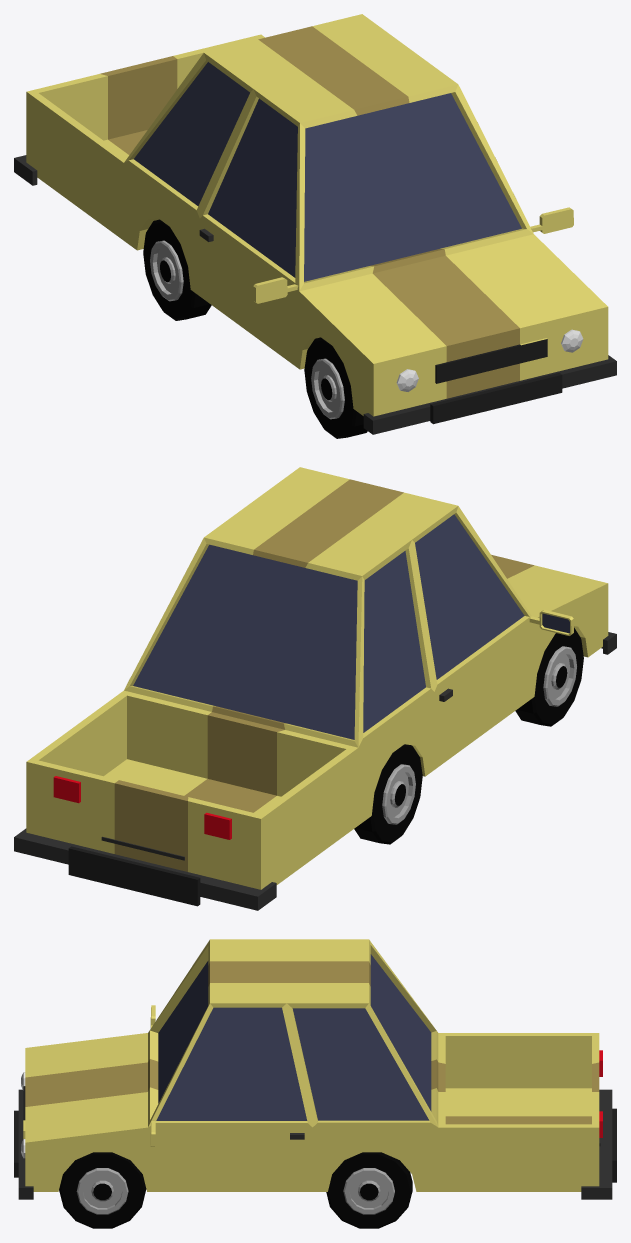
File: Generic_Car2.fbx
3 views of the same model, one above another, from view 1: azimuth 30°, elevation 25°; view 2: azimuth 150°, elevation 25°; view 3: azimuth 270°, elevation 25° (orthographic). The views are drawn at different scales.
Parts seen in each view (by area): view 1: GenericCar_2, Tires.001; view 2: GenericCar_2, Tires.001; view 3: GenericCar_2, Tires.001.
Part boxes in pixels (x1=…): GenericCar_2: x1=14, y1=14, x2=616, y2=434; Tires.001: x1=143, y1=219, x2=367, y2=438; GenericCar_2: x1=14, y1=467, x2=616, y2=910; Tires.001: x1=354, y1=627, x2=583, y2=844; GenericCar_2: x1=14, y1=939, x2=616, y2=1199; Tires.001: x1=59, y1=1152, x2=412, y2=1228.
Bounding box in the file's own units: 3.71 × 2.86 × 7.38.
